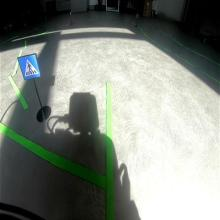crosswalk: (17, 52, 42, 80)
